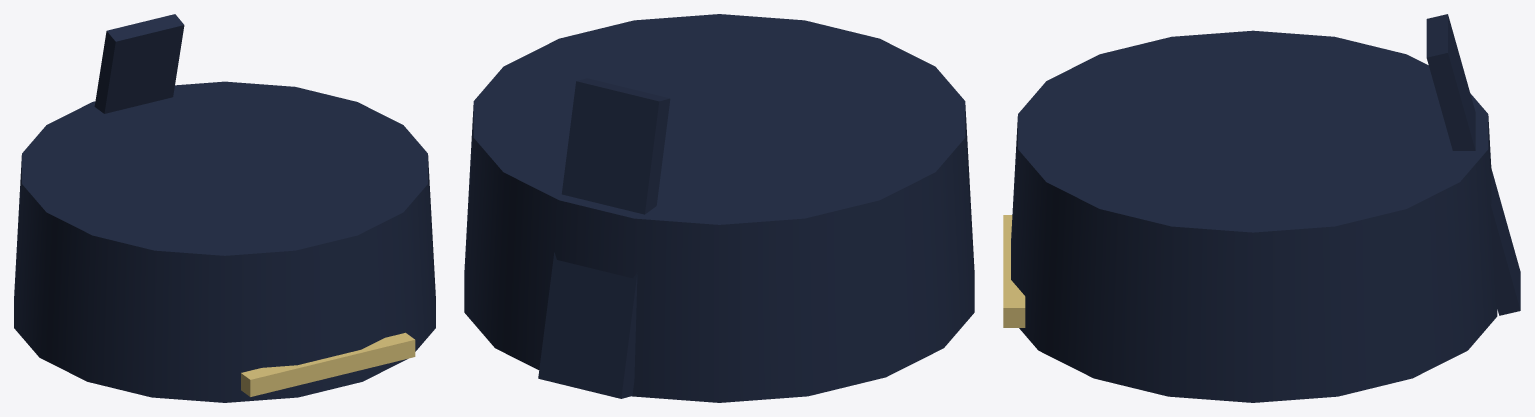
File: head_ancient_0.glb
3 renders of one model, left to right at view 1: azimuth 30°, elevation 25°; view 2: azimuth 150°, elevation 25°; view 3: azimuth 270°, elevation 25°, orthographic. The views are drawn at different scales.
Size of the model in its own units: 0.5805 by 0.3418 by 0.6055.
